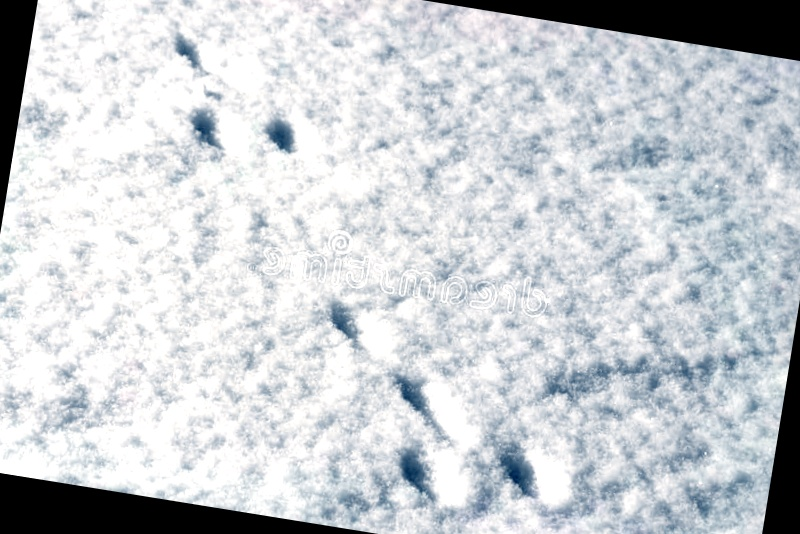lapin: (177, 268, 484, 516), (499, 54, 672, 212)
